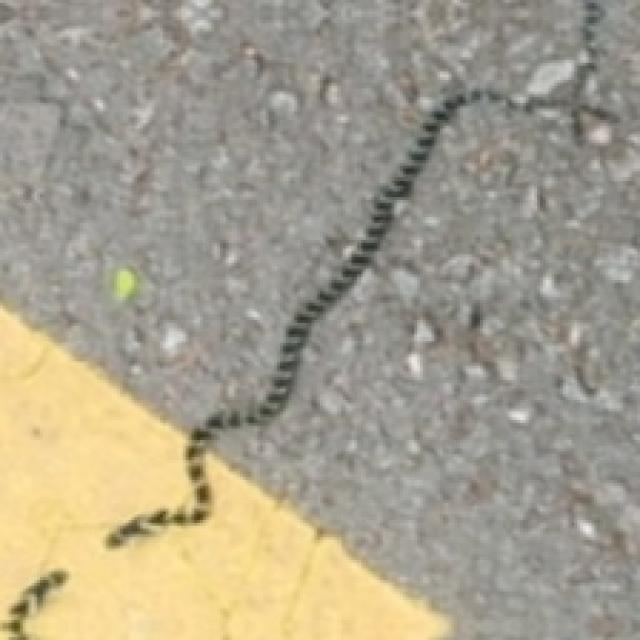king cobra: (0, 0, 637, 637), (217, 0, 637, 616), (123, 0, 354, 409)
